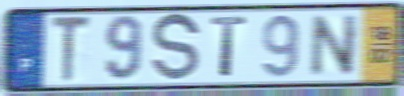9: (103, 13, 144, 85), (260, 12, 302, 82)
N: (307, 12, 362, 79)
S: (149, 10, 203, 86)
T: (49, 13, 93, 86), (209, 15, 250, 81)
